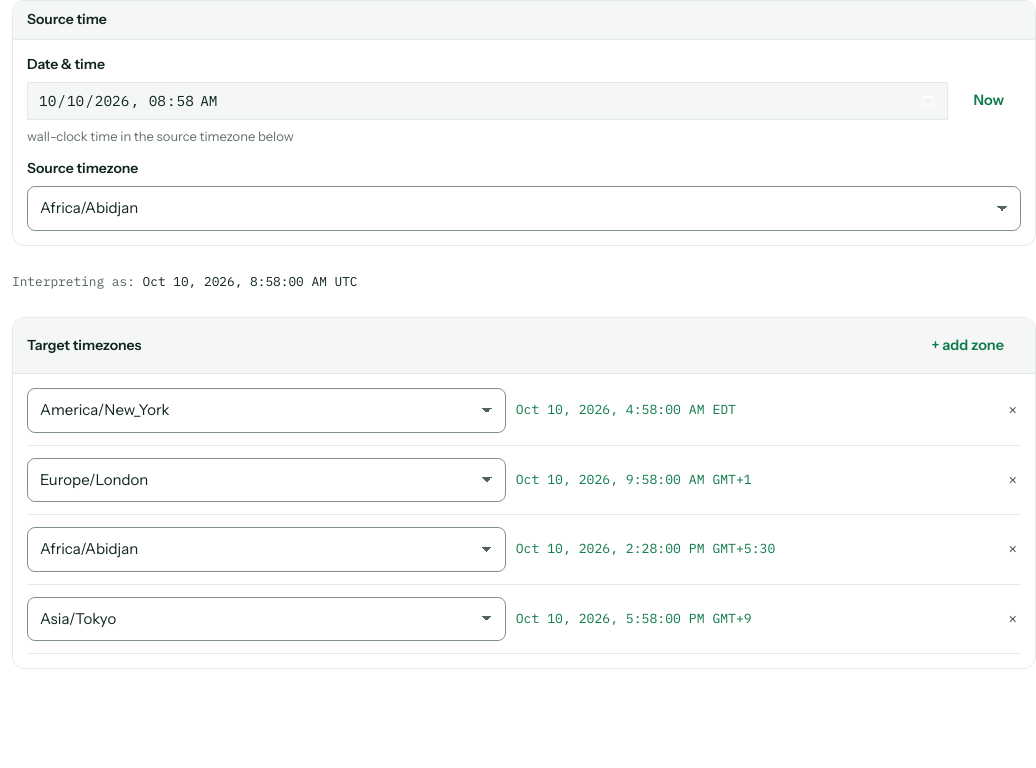
Test: TimezoneConverter › adds a new target zone when "+ add zone" is clicked
Click the button "+ add zone".
click(968, 346)  # box [915,326,1021,365]
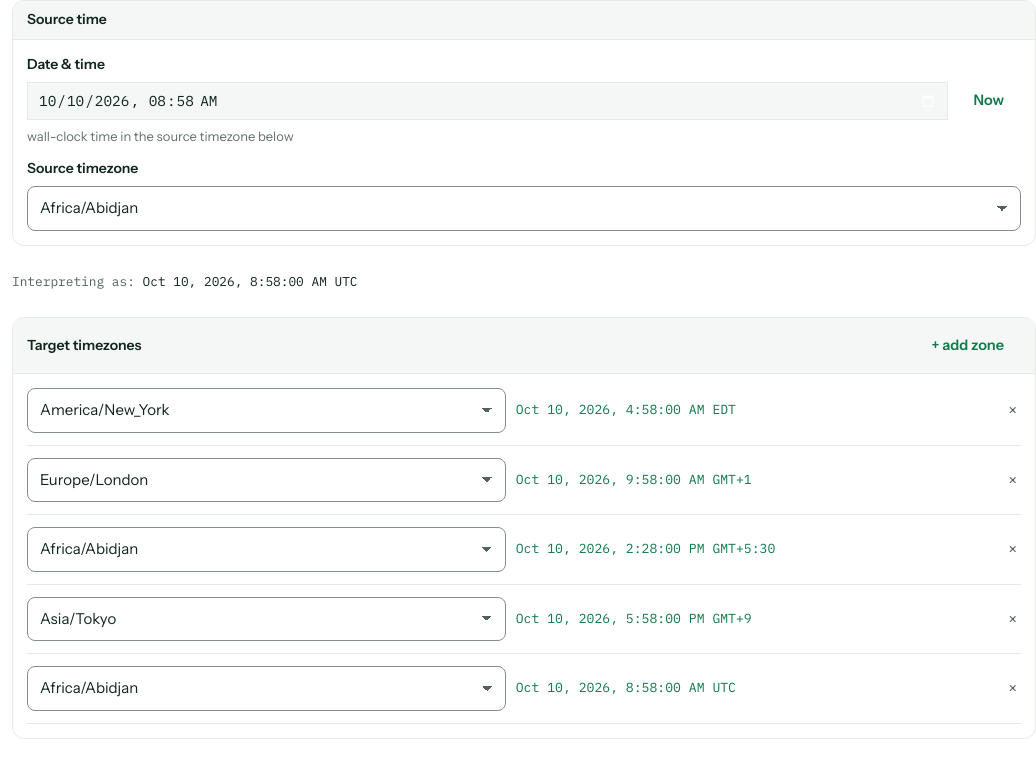
Now the number of dropdowns is 6, box [27,186,1021,230]; [27,388,506,433]; [27,458,506,502]; [27,527,506,572]; [27,597,506,641]; [27,666,506,711]
